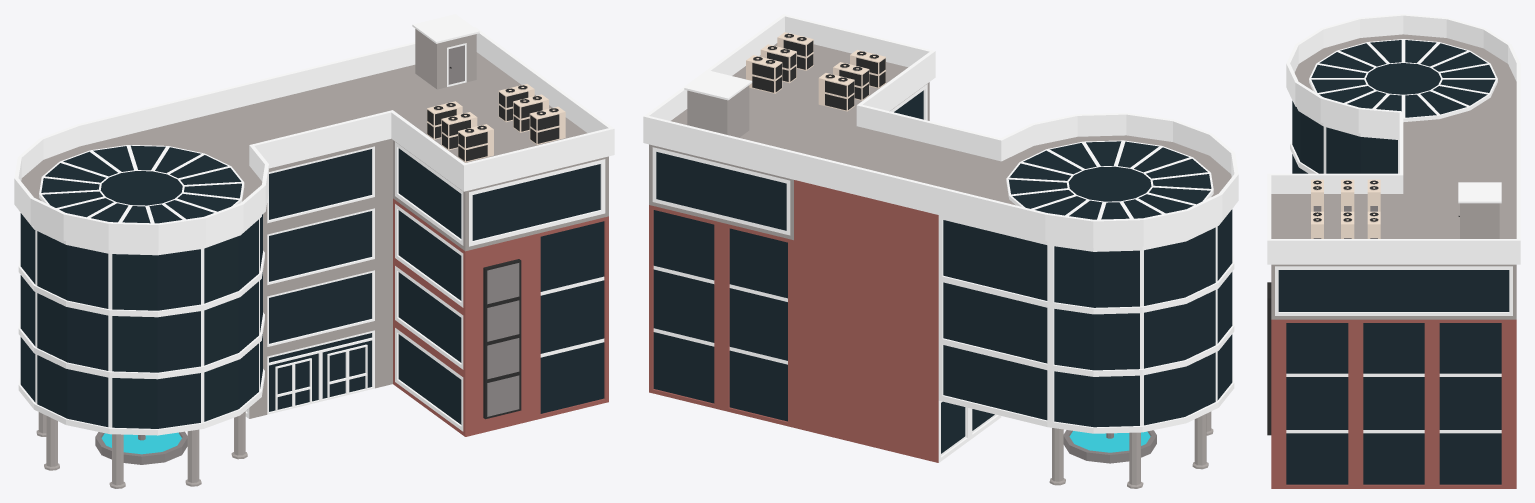
The model's file is building-mall.glb.
The picture shows the model from 3 angles, left to right: view 1: azimuth 30°, elevation 25°; view 2: azimuth 150°, elevation 25°; view 3: azimuth 270°, elevation 25°; orthographic projection. The views are drawn at different scales.
Parts seen in each view (by area): view 1: building-mall; view 2: building-mall; view 3: building-mall.
Part boxes in pixels (x1,y1,x2,y2): building-mall: [14, 14, 614, 488]; building-mall: [643, 14, 1238, 488]; building-mall: [1267, 14, 1520, 488].
Bounding box in the file's own units: 28.4 × 16.1 × 13.4.
1 material, 1 textured.
